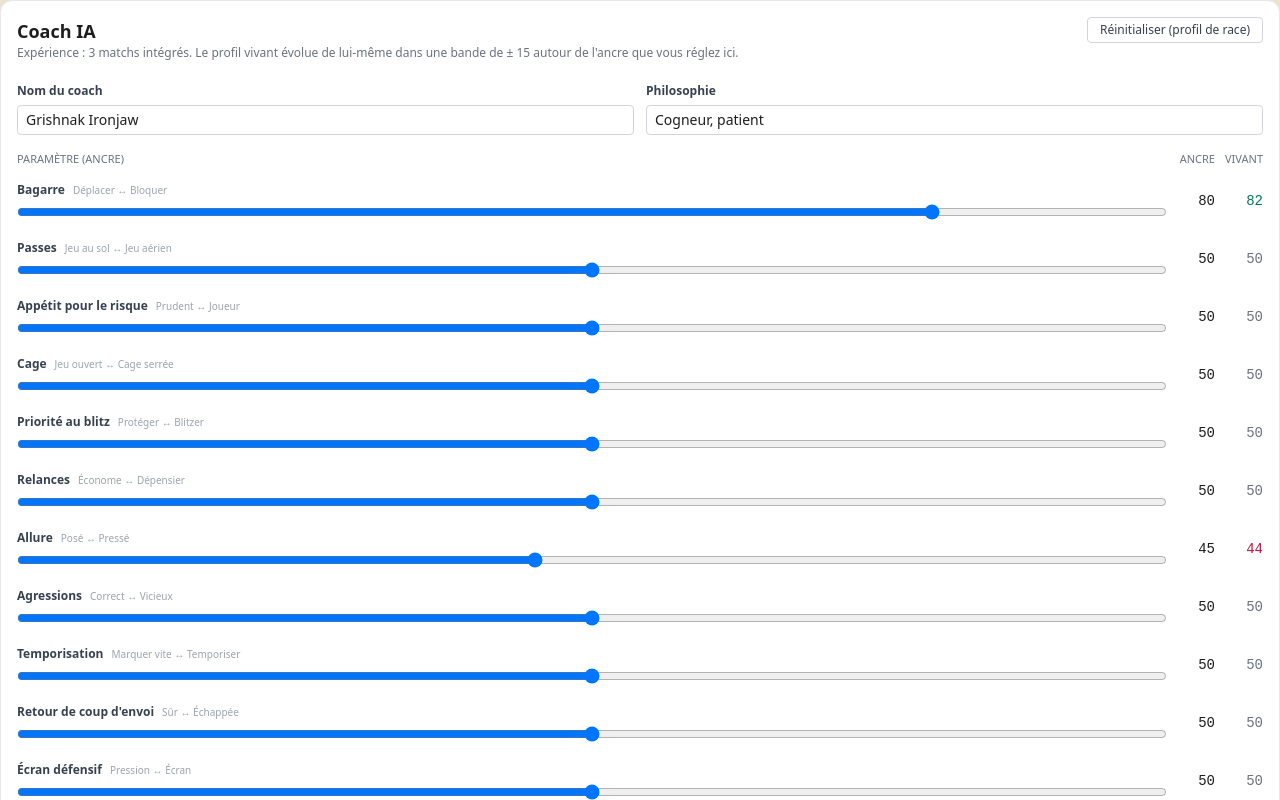
Test: CoachPanel › réinitialise après confirmation et recharge
The image size is (1280, 800).
Click the button with test id "coach-reset".
click(1175, 30)  # box [1087, 17, 1263, 43]
(page scrolled)
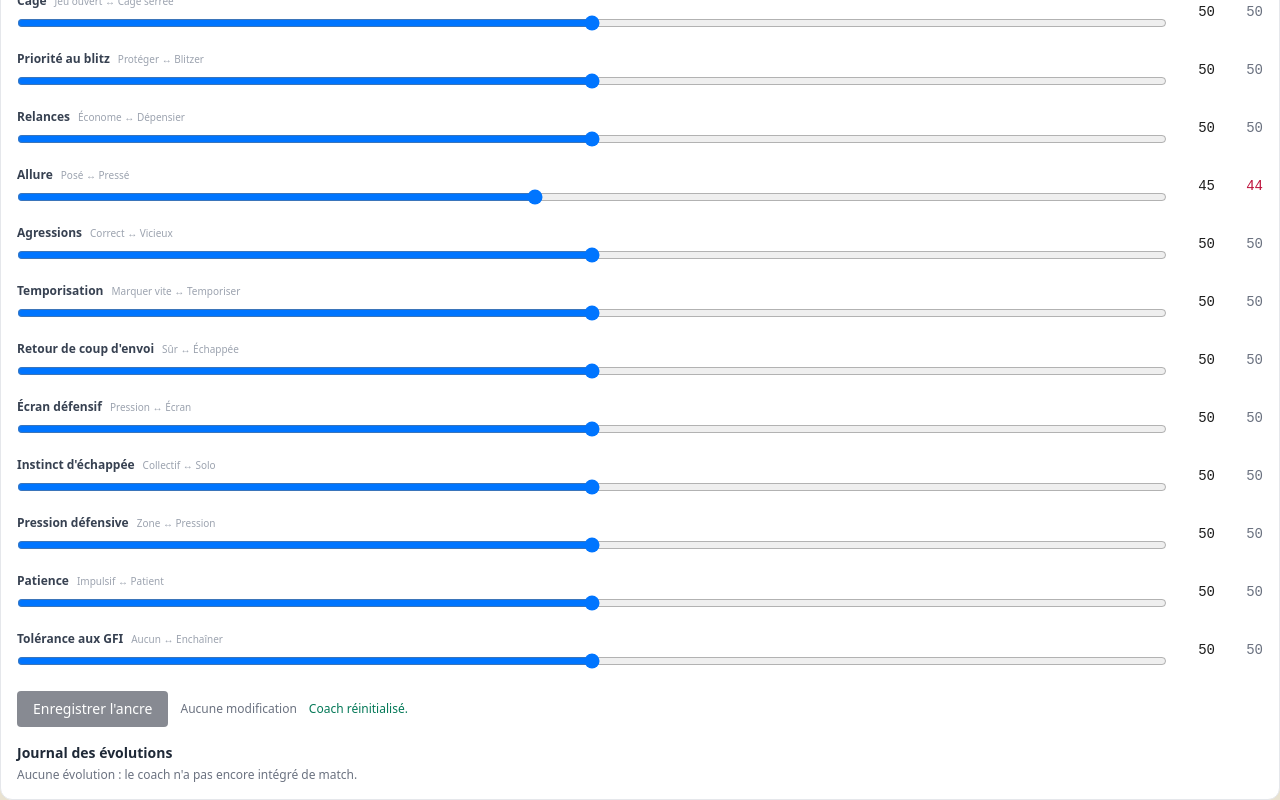
Expected: the text "Coach réinitialisé." is shown, [309, 700, 408, 716]
